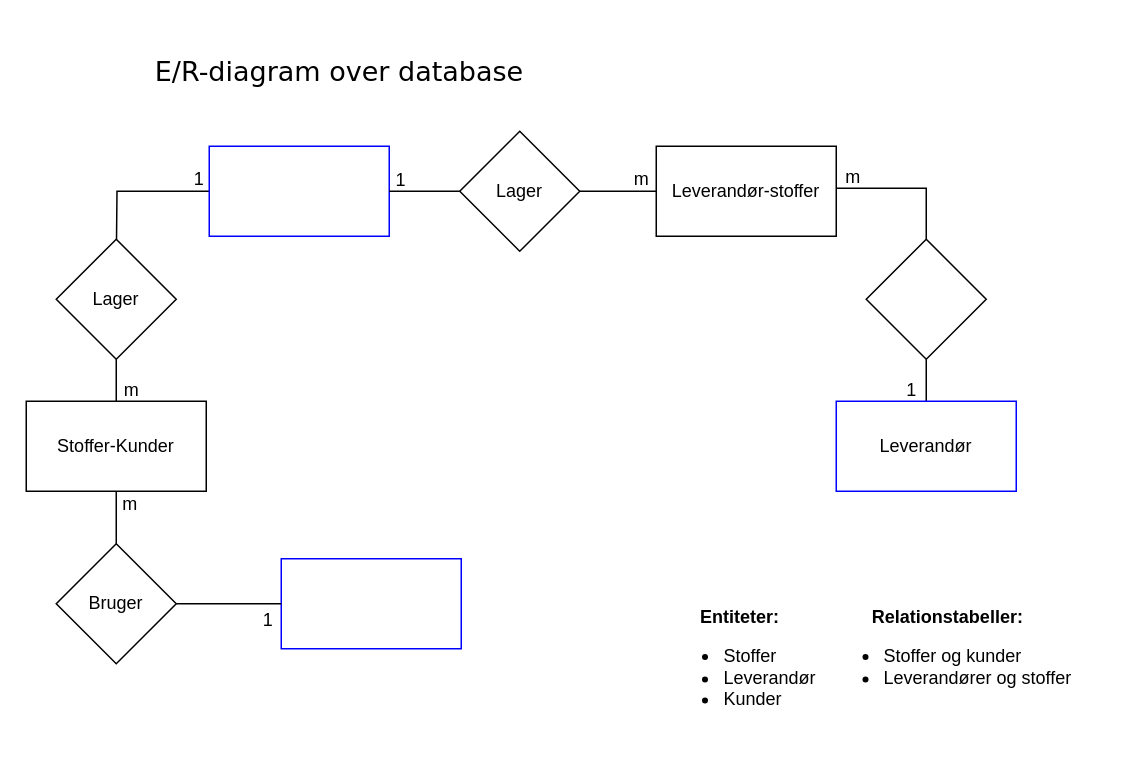
This 1148x767 diagram has some shape labels left out. Each missing label, with the centre of its shape:
Kunde: (370,603)
Leverer: (925,298)
Stoffer: (298,190)
